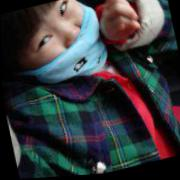WRONG: (18, 1, 111, 91)
